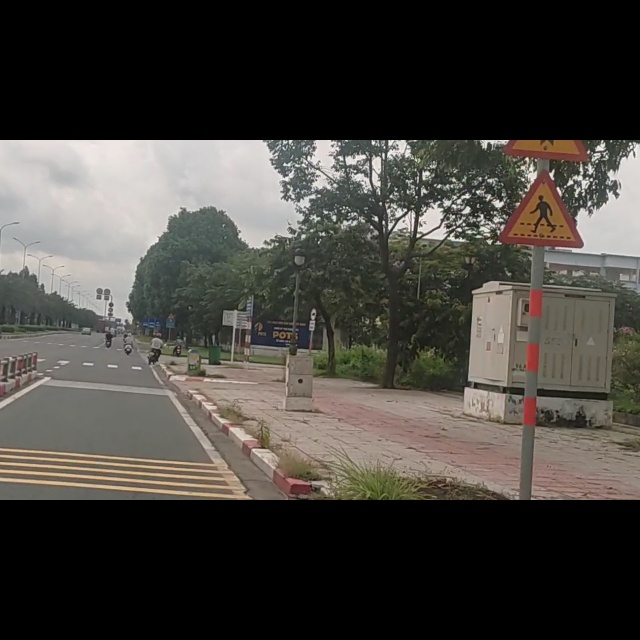Đường người đi bộ sang đường: (501, 170, 584, 248)
